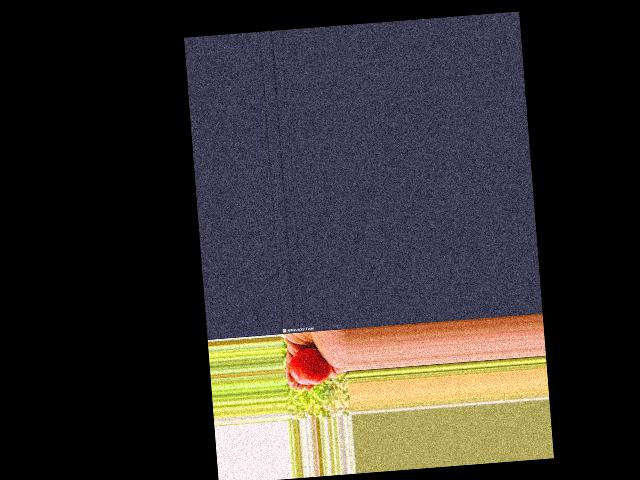tomato: (288, 346, 332, 386)
